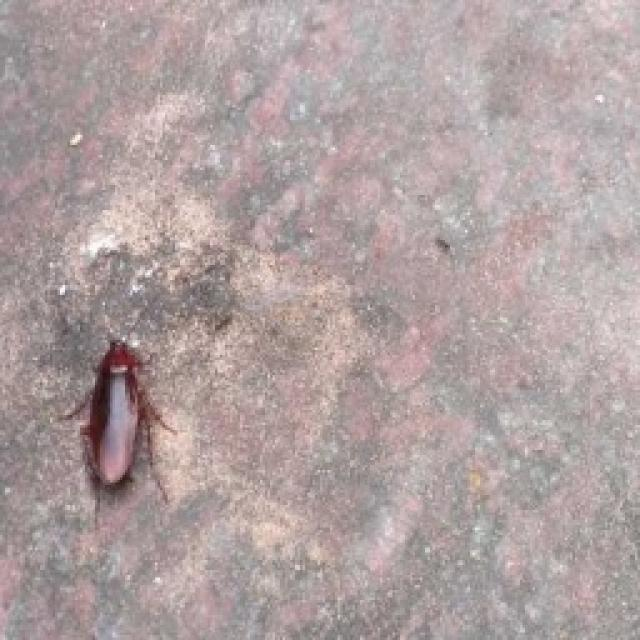cockroach: (58, 333, 180, 506)
